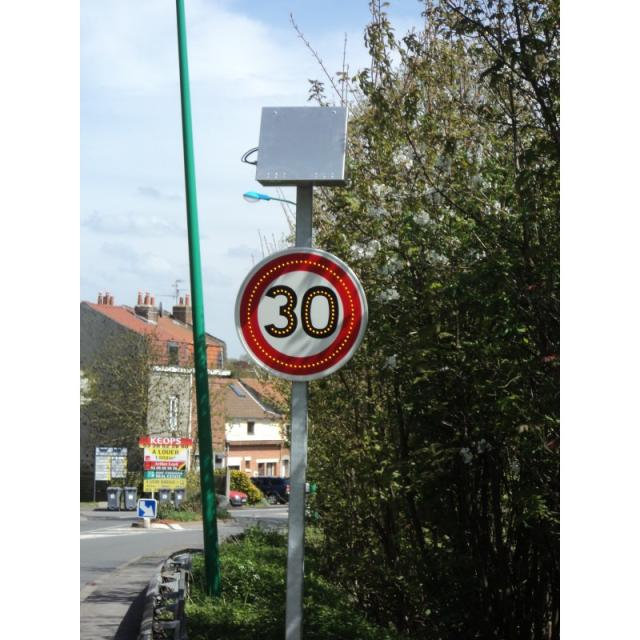speed_30: (232, 242, 371, 386)
